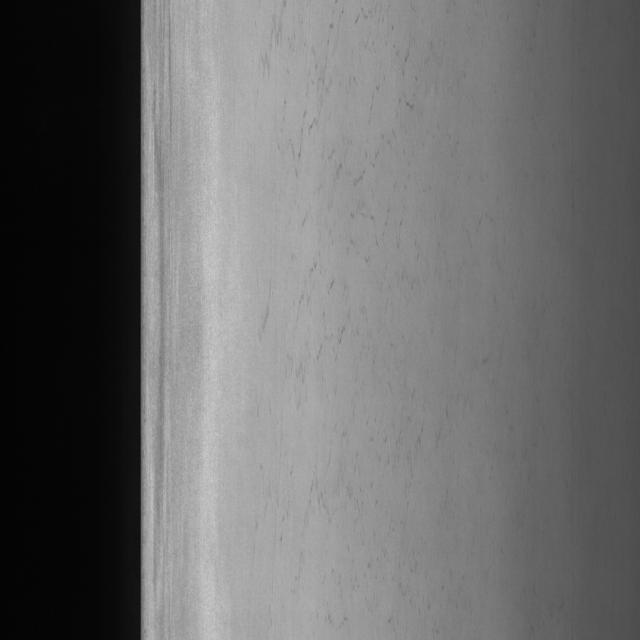inclusion: (250, 10, 444, 592)
